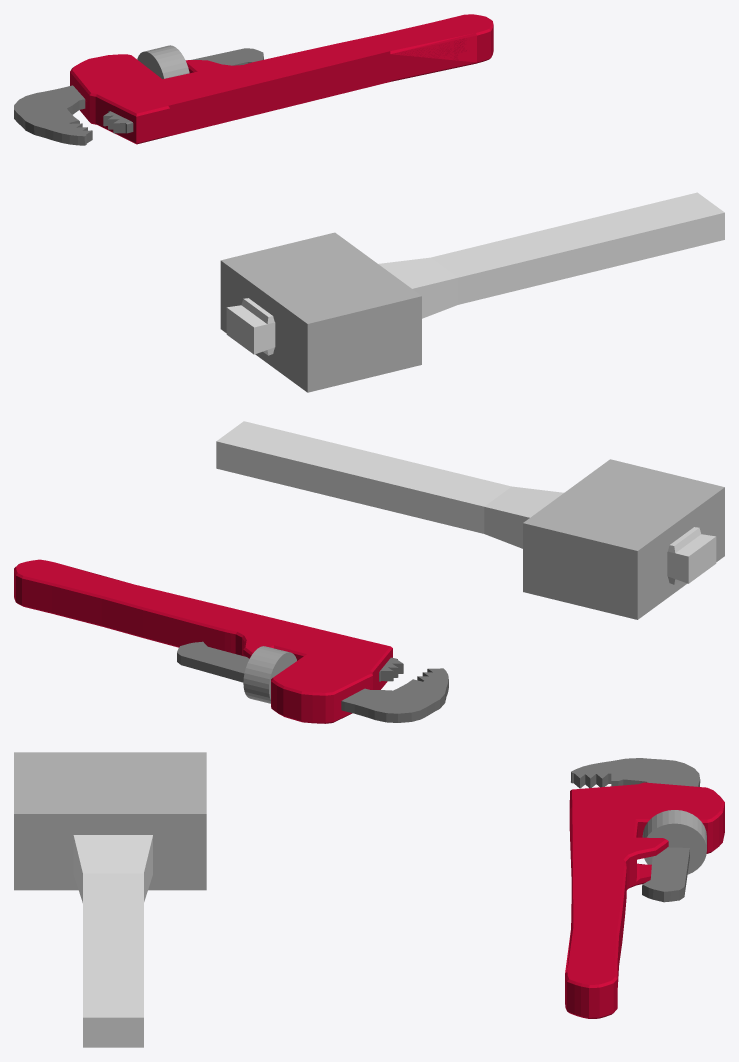
File: tools.fbx
3 views of the same model, one above another, from view 1: azimuth 30°, elevation 25°; view 2: azimuth 150°, elevation 25°; view 3: azimuth 270°, elevation 25° (orthographic). The views are drawn at different scales.
Visible parts, largest first — view 1: Cube.003, Cube, Cube.001, Cylinder; view 2: Cube.003, Cube, Cube.001, Cylinder; view 3: Cube.003, Cube, Cube.001, Cylinder.
Boxes of the visible parts, <box> form: Cube.003: <box>220,192,724,392</box>; Cube: <box>70,14,493,144</box>; Cube.001: <box>14,48,263,145</box>; Cylinder: <box>137,45,189,79</box>; Cube.003: <box>216,421,724,619</box>; Cube: <box>14,559,392,723</box>; Cube.001: <box>177,641,448,722</box>; Cylinder: <box>243,646,296,703</box>; Cube.003: <box>14,752,206,1047</box>; Cube: <box>565,782,724,1018</box>; Cube.001: <box>571,758,700,902</box>; Cylinder: <box>642,810,706,874</box>.
Size of the model in its own units: 72.48 by 12.63 by 85.64.
